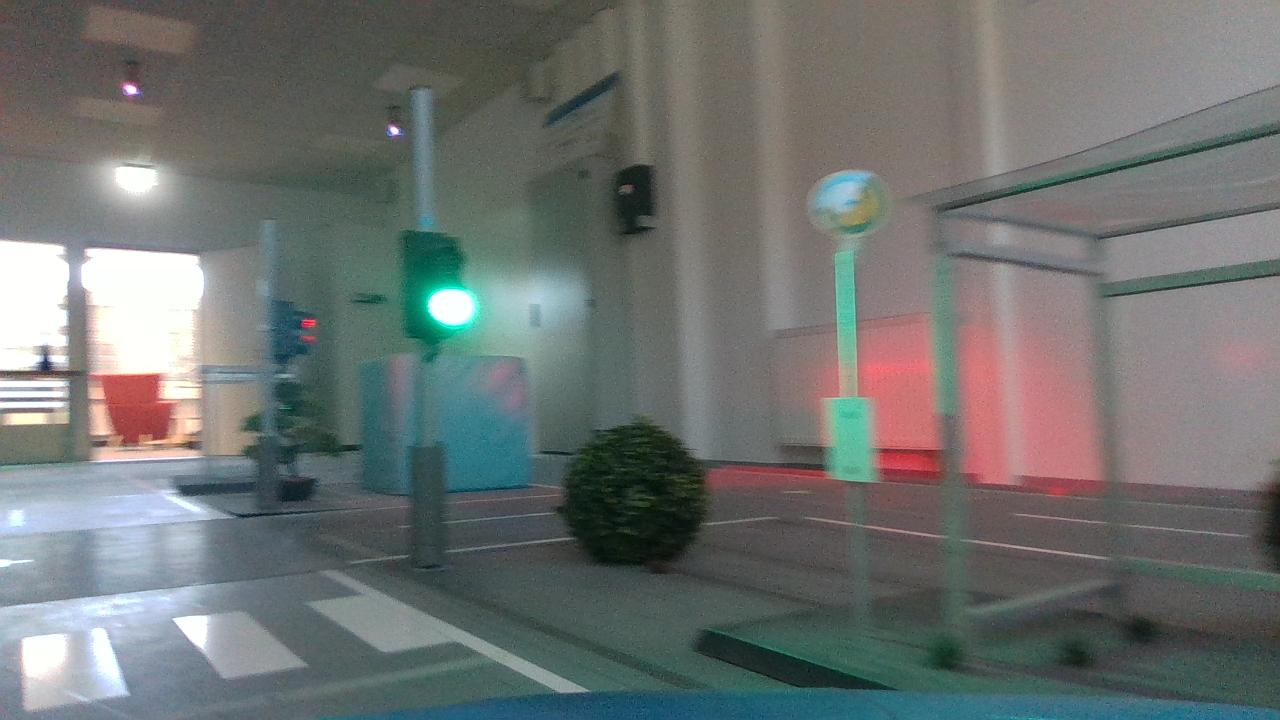traffic_light_green: (389, 223, 484, 349)
